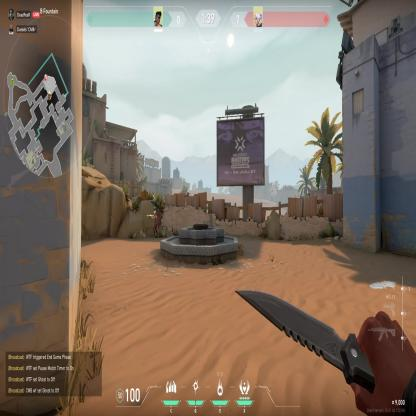enemy: (151, 209, 158, 238)
